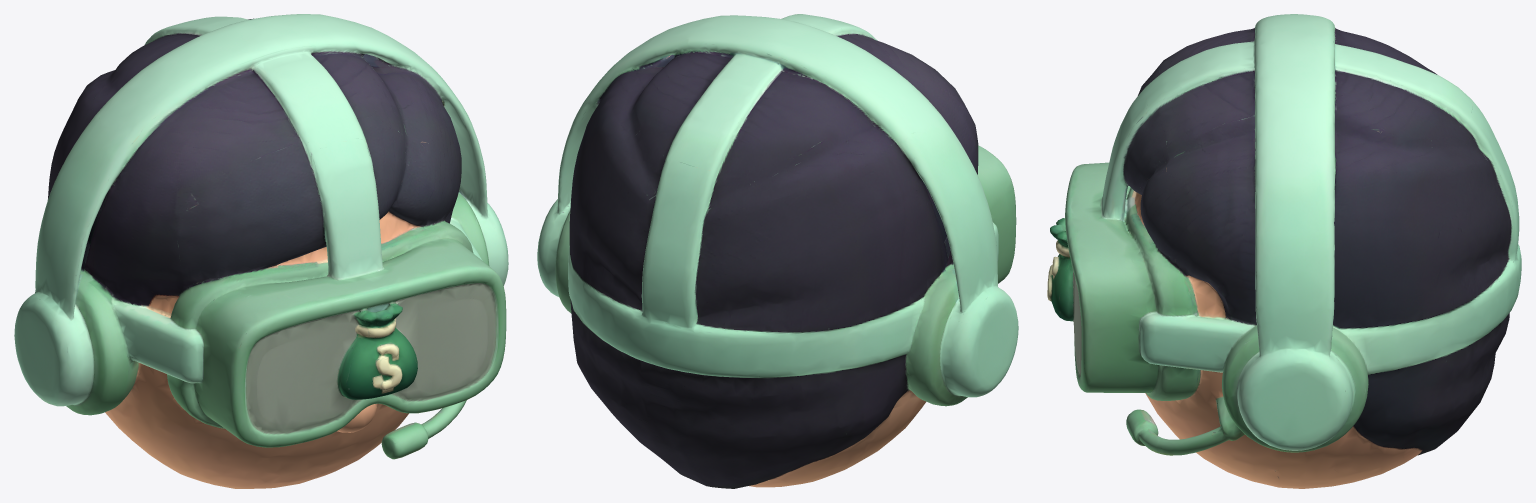
File: financeiro.glb
The picture shows the model from 3 angles, left to right: view 1: azimuth 30°, elevation 25°; view 2: azimuth 150°, elevation 25°; view 3: azimuth 270°, elevation 25°; orthographic projection. The views are drawn at different scales.
Parts seen in each view (by area): view 1: Mesh_0; view 2: Mesh_0; view 3: Mesh_0.
Boxes of the visible parts, bbox=[...] form: Mesh_0: bbox=[14, 14, 508, 488]; Mesh_0: bbox=[537, 14, 1018, 488]; Mesh_0: bbox=[1047, 14, 1521, 488].
Size of the model in its own units: 1.91 by 1.82 by 1.81.
Materials: 1 (1 with a texture image).
